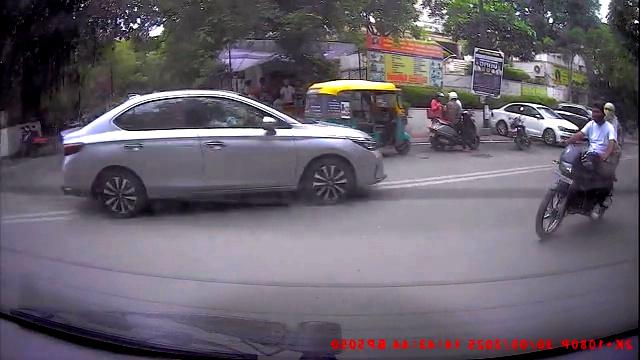motorcycle_without_helmet: (533, 100, 622, 242)
